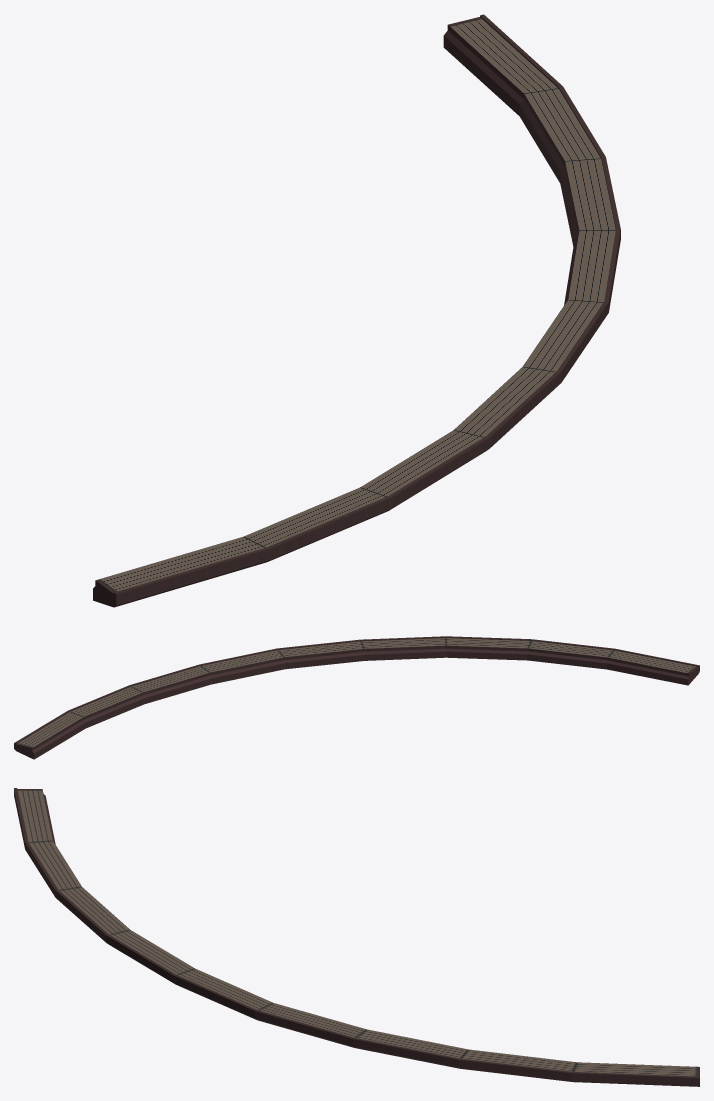
The model's file is SW_ENV_EL_TrackBase_Walkway_SingleOuter_Side_B.fbx.
3 renders of one model, top to bottom at view 1: azimuth 30°, elevation 25°; view 2: azimuth 150°, elevation 25°; view 3: azimuth 270°, elevation 25°, orthographic. The views are drawn at different scales.
Visible parts, largest first — view 1: SW_ENV_EL_TrackBase_Walkway_SingleOuter_Side_B; view 2: SW_ENV_EL_TrackBase_Walkway_SingleOuter_Side_B; view 3: SW_ENV_EL_TrackBase_Walkway_SingleOuter_Side_B.
Boxes of the visible parts, left/top/right/bottom form: SW_ENV_EL_TrackBase_Walkway_SingleOuter_Side_B: left=93, top=14, right=620, bottom=607; SW_ENV_EL_TrackBase_Walkway_SingleOuter_Side_B: left=14, top=636, right=699, bottom=759; SW_ENV_EL_TrackBase_Walkway_SingleOuter_Side_B: left=14, top=788, right=699, bottom=1086.
Bounding box in the file's own units: 3245 × 83.5 × 3245.
